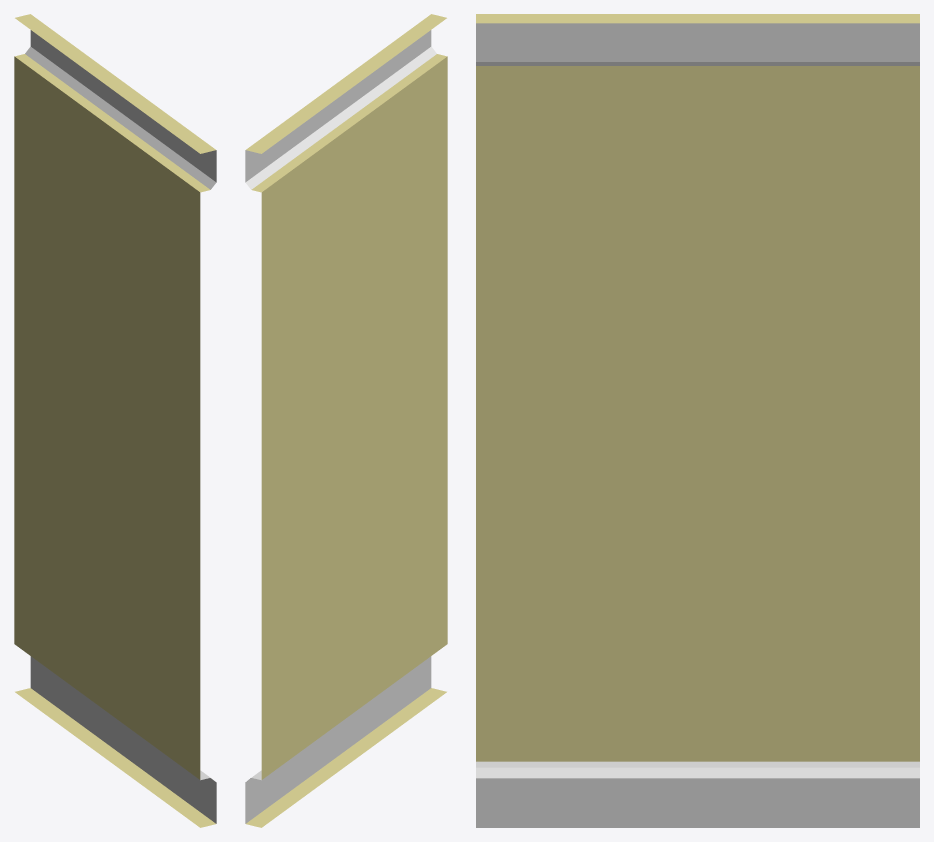
File: Wall01.fbx
3 views of the same model, side by side, from view 1: azimuth 30°, elevation 25°; view 2: azimuth 150°, elevation 25°; view 3: azimuth 270°, elevation 25° (orthographic). The views are drawn at different scales.
Parts seen in each view (by area): view 1: Plane; view 2: Plane; view 3: Plane.
Boxes of the visible parts, <box> form: Plane: <box>14,14,216,827</box>; Plane: <box>245,14,447,827</box>; Plane: <box>476,14,919,827</box>.
Bounding box in the file's own units: 10 × 400 × 200.
